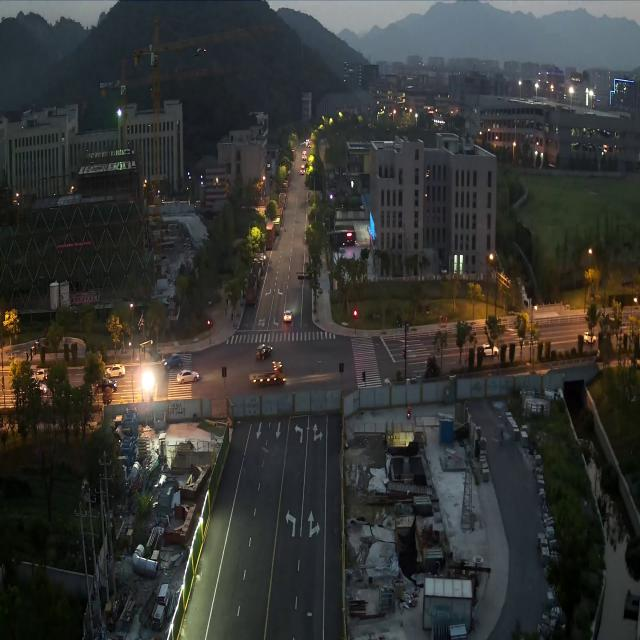UAV: (192, 45, 207, 57)
